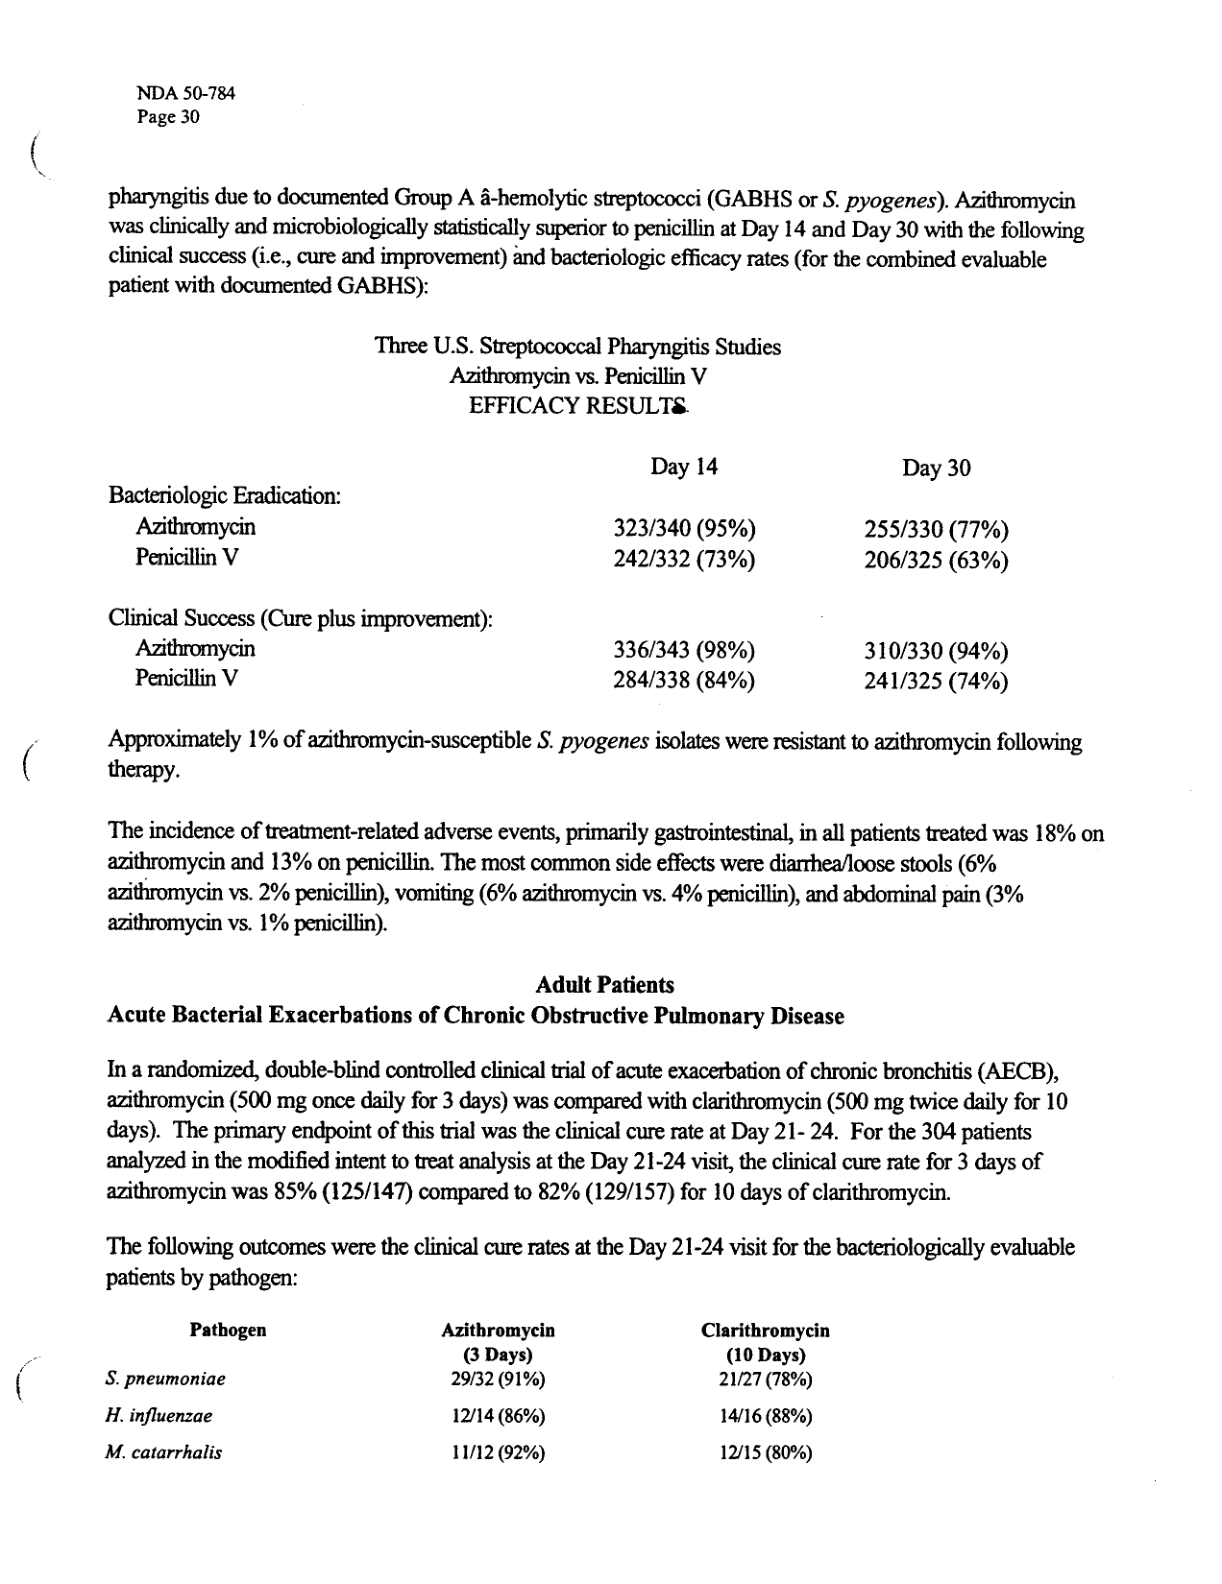nolines: (109, 451, 1014, 694), (99, 1316, 832, 1465)
